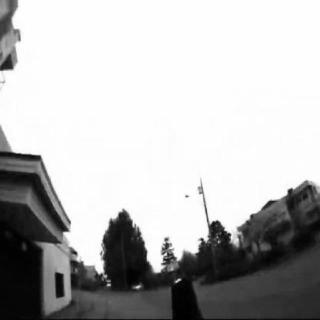other: (1, 155, 97, 259)
